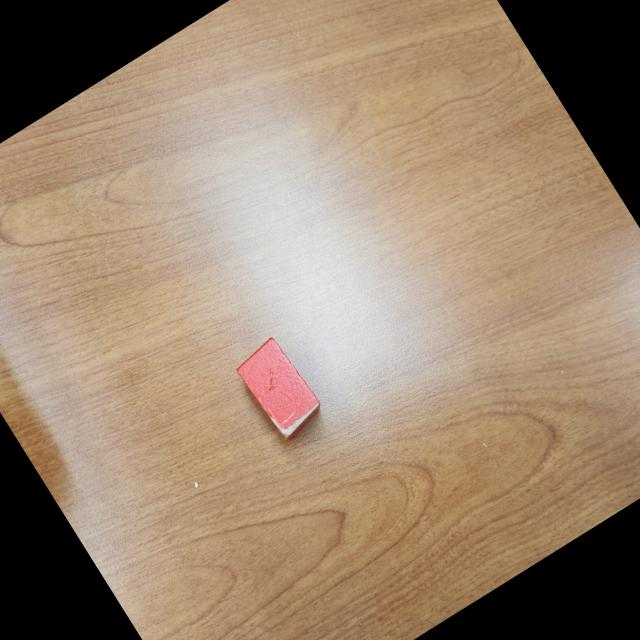broken: (231, 333, 329, 444)
